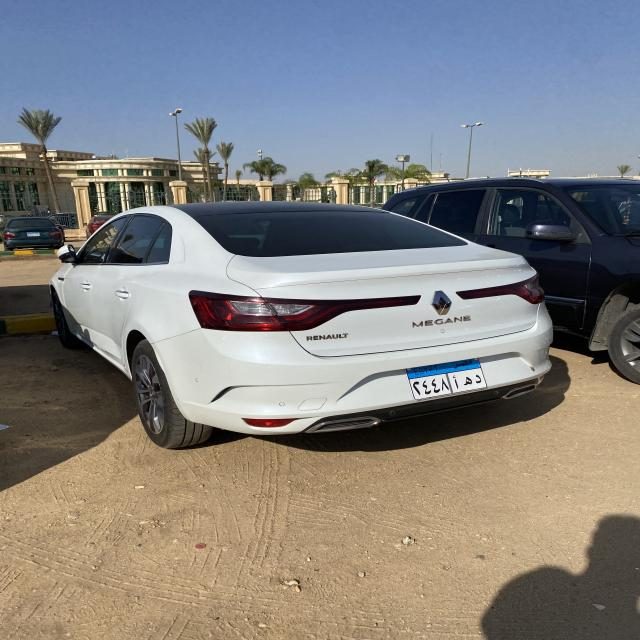License Plate: (405, 357, 487, 400), (27, 231, 40, 237)
